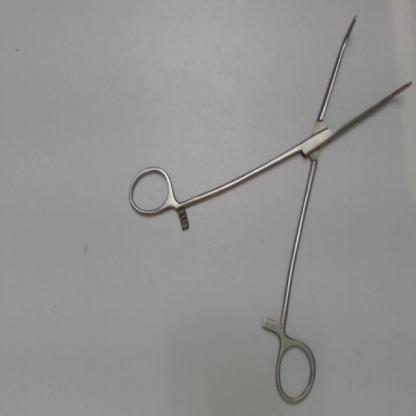Lahey Forceps: (122, 6, 414, 410)
